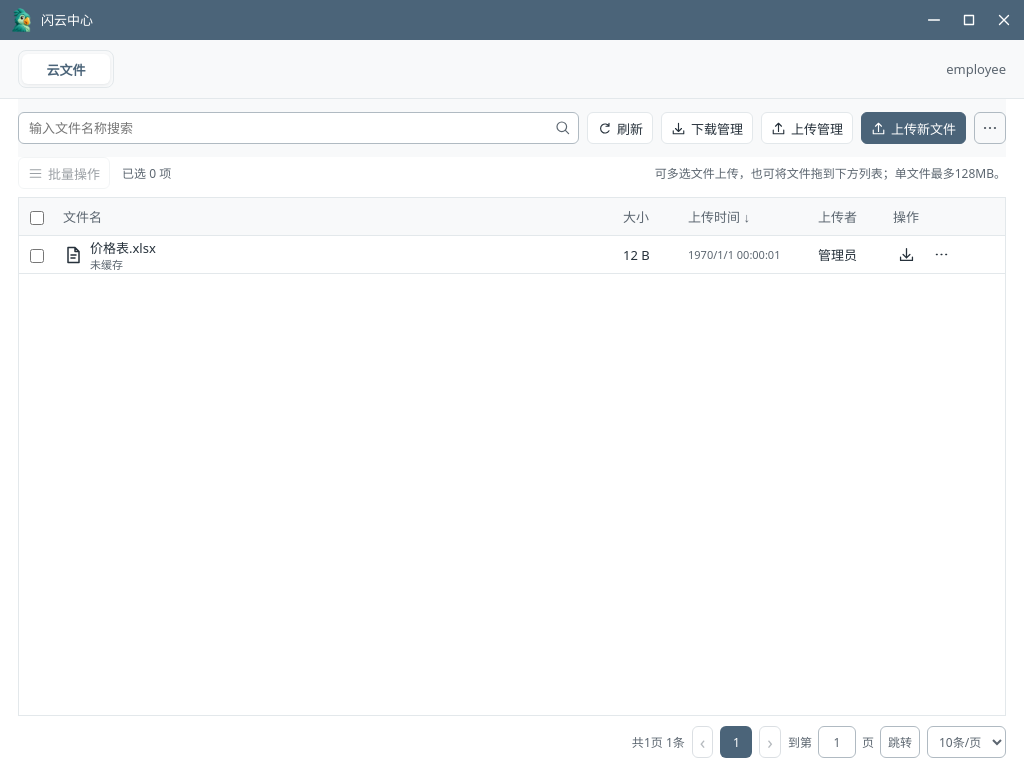
Test: 独立授权显示上传和删除入口，共享话术角色不授予服务管理权限
The image size is (1024, 768).
Expected: the text "价格表.xlsx" is shown, [90,238,156,257]
Expected: the button "上传新文件" is shown, [861,112,966,144]
Click the heading named "云文件更多操作": coordinates (990, 128) [974,112,1006,144]
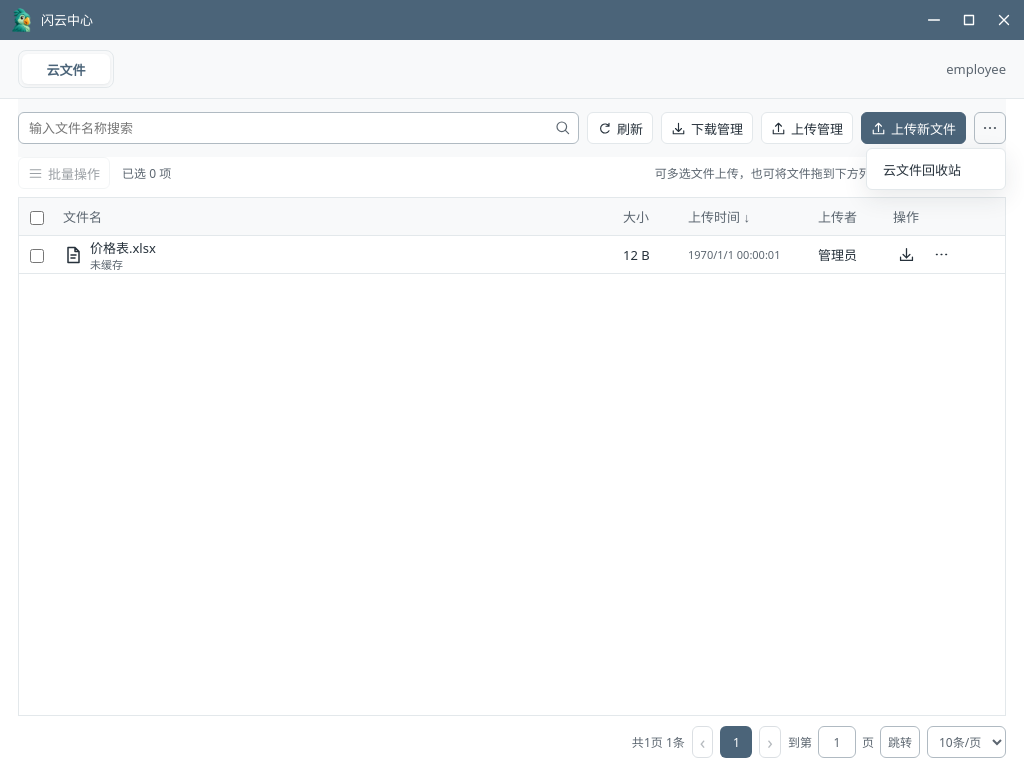
Click the button "云文件回收站": coordinates (936, 169) [871,153,1001,185]
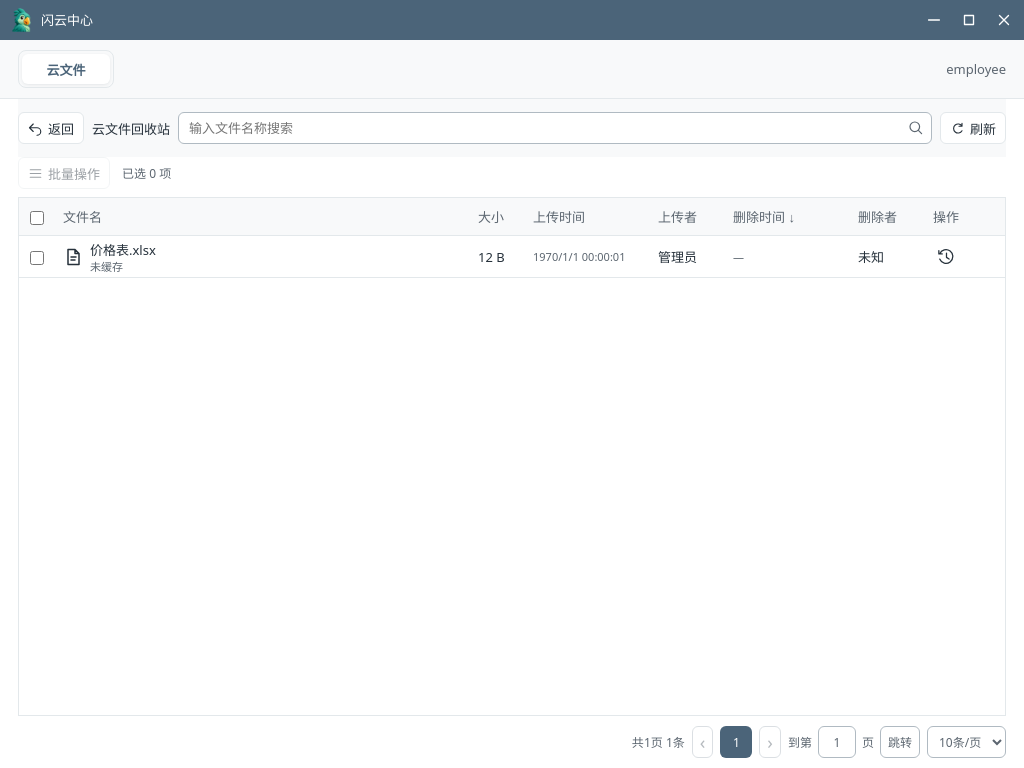
Result: the button named "恢复" is shown at [933,242,959,270]
